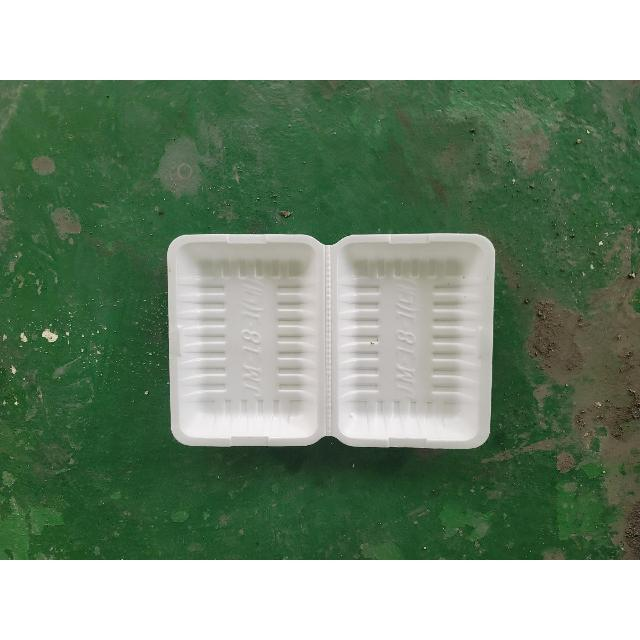Recipiente plastico: (168, 234, 495, 448)
